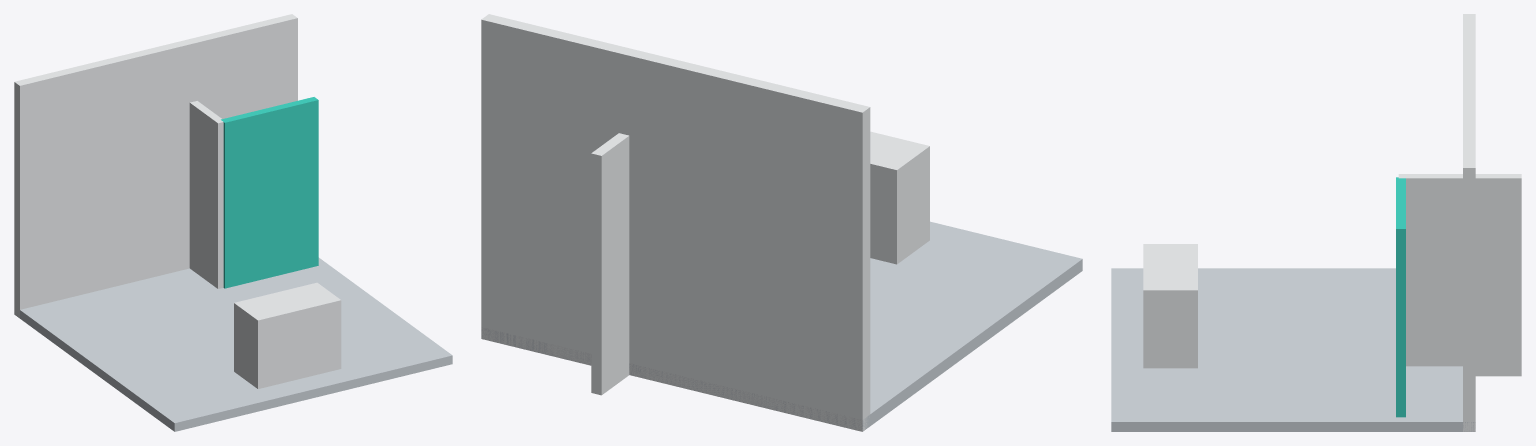
The picture shows the model from 3 angles, left to right: view 1: azimuth 30°, elevation 25°; view 2: azimuth 150°, elevation 25°; view 3: azimuth 270°, elevation 25°; orthographic projection. The views are drawn at different scales.
Visible parts, largest first — view 1: Exhibition Booth Concept; view 2: Exhibition Booth Concept; view 3: Exhibition Booth Concept.
Part boxes in pixels (<box>): Exhibition Booth Concept: <box>14,14,452,431</box>; Exhibition Booth Concept: <box>481,14,1082,431</box>; Exhibition Booth Concept: <box>1111,14,1521,431</box>.
Bounding box in the file's own units: 4 × 3.2 × 4.51.
